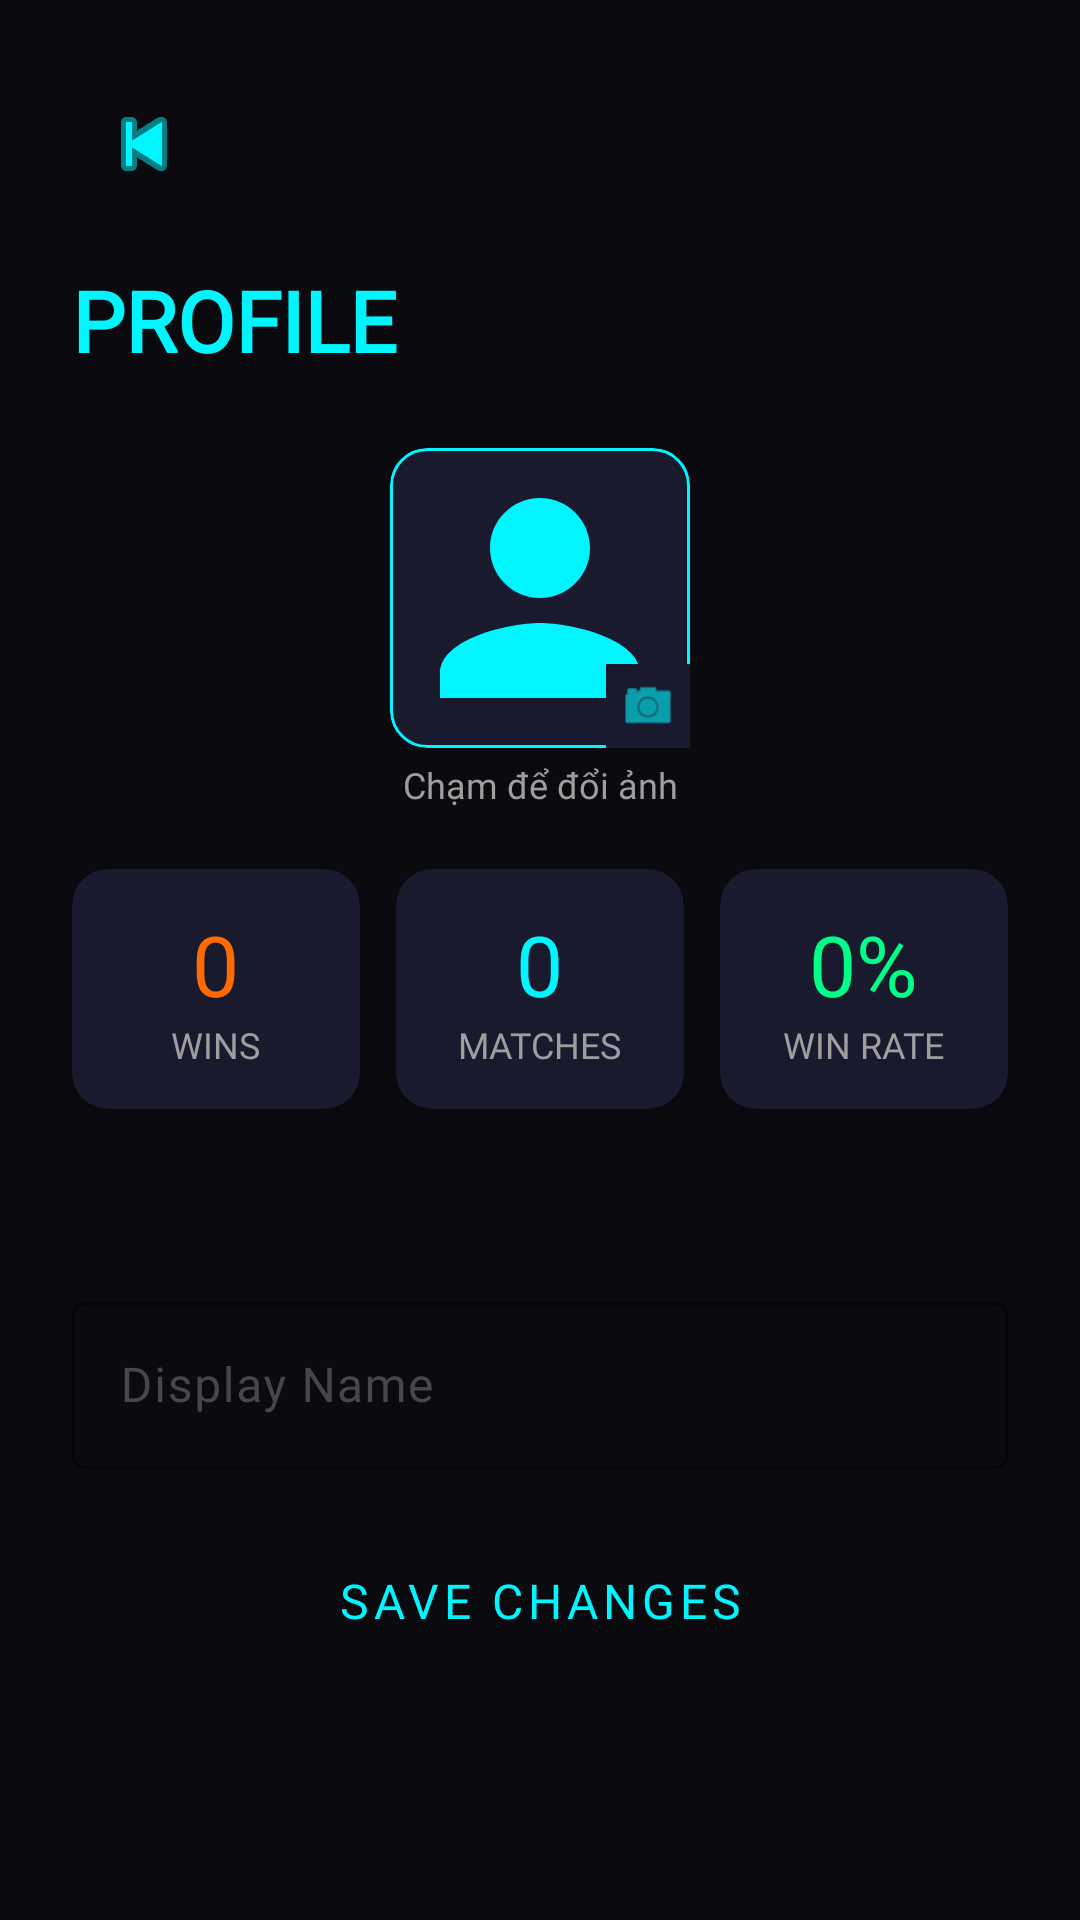

Where icons sit on this 1080*1920 app screen, as (x1, y1, x2, y2):
previous: (121, 117, 167, 171)
